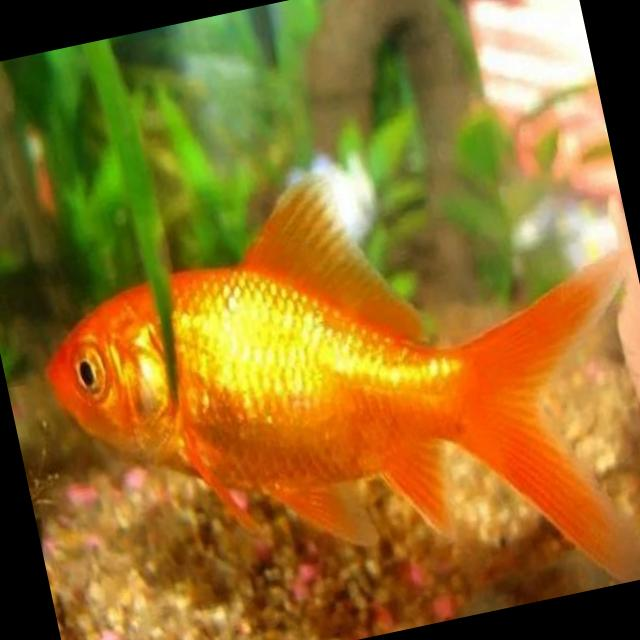GoldFish: (17, 112, 640, 640)
